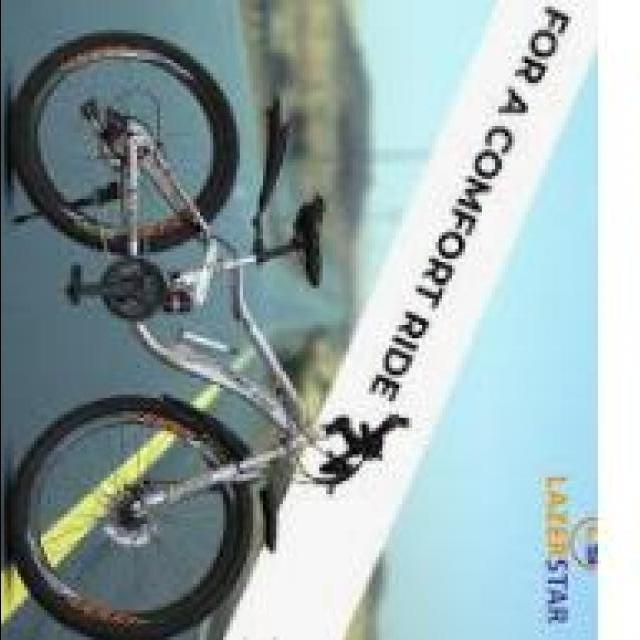bicycle: (15, 41, 343, 640)
